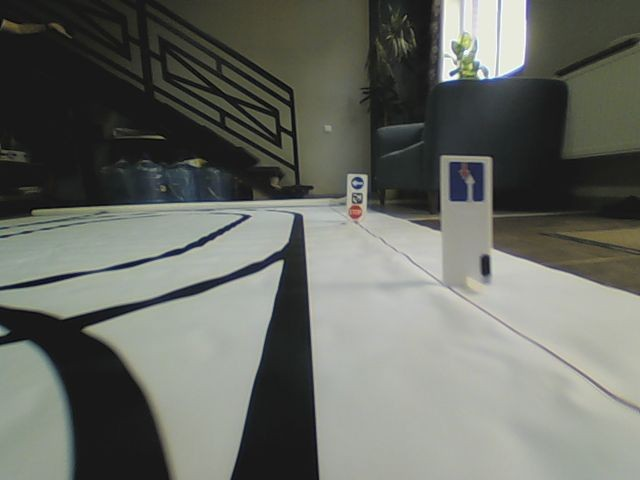priority_movement: (447, 160, 485, 202)
